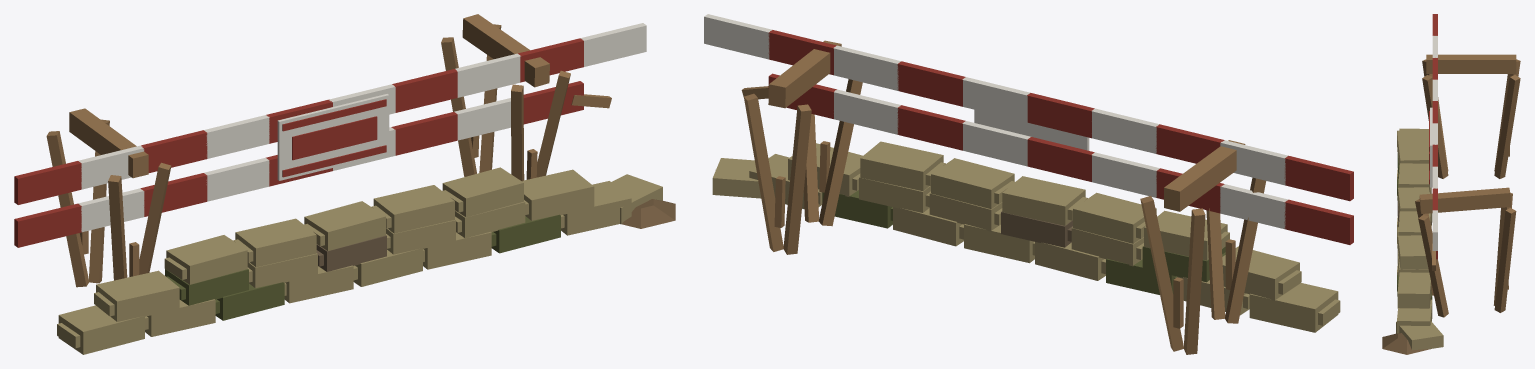
File: barricade.glb
3 renders of one model, left to right at view 1: azimuth 30°, elevation 25°; view 2: azimuth 150°, elevation 25°; view 3: azimuth 270°, elevation 25°, orthographic. The views are drawn at different scales.
Parts seen in each view (by area): view 1: barricade; view 2: barricade; view 3: barricade.
Boxes of the visible parts, <box> form: barricade: <box>14,14,675,354</box>; barricade: <box>704,14,1353,354</box>; barricade: <box>1382,14,1520,354</box>.
Size of what is drawn, in the model's own units: 4.07 by 1.04 by 1.07.
Materials: 2 (2 with a texture image).
